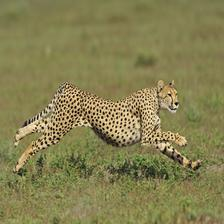Cheetah: (11, 77, 205, 175)
